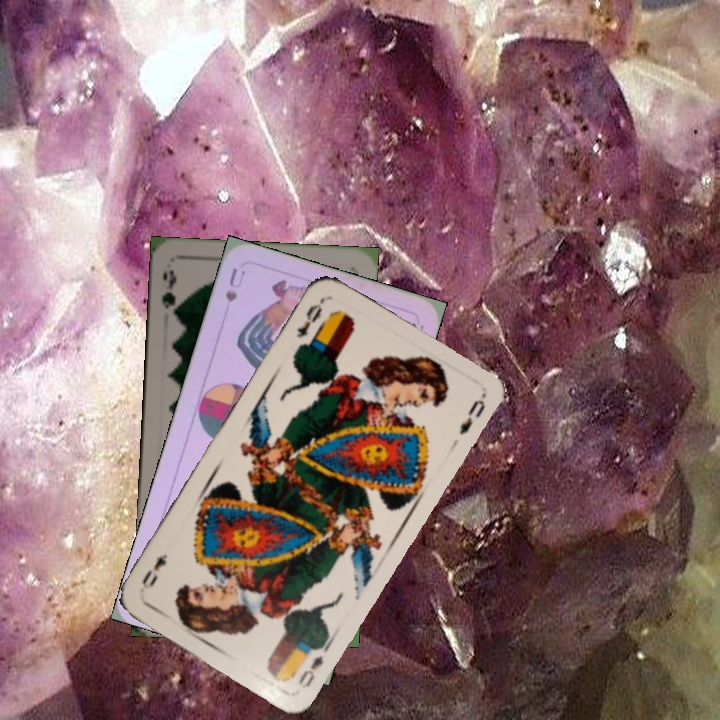EO: (294, 639, 332, 691), (292, 295, 327, 341)
G9: (157, 266, 181, 321)
SU: (221, 263, 248, 304)
